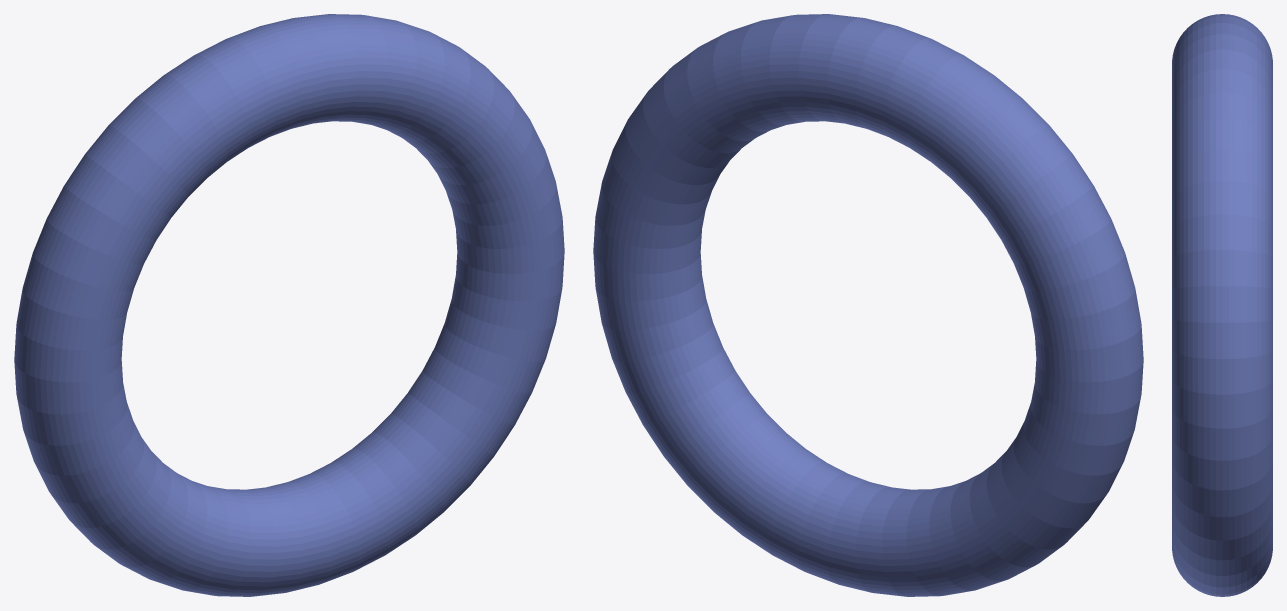
The picture shows the model from 3 angles, left to right: view 1: azimuth 30°, elevation 25°; view 2: azimuth 150°, elevation 25°; view 3: azimuth 270°, elevation 25°; orthographic projection. The views are drawn at different scales.
Visible parts, largest first — view 1: world; view 2: world; view 3: world.
Part boxes in pixels (x1,y1,x2,y2): world: [14, 14, 564, 596]; world: [593, 14, 1143, 596]; world: [1172, 14, 1272, 596].
Bounding box in the file's own units: 16.13 × 16.1 × 2.79.
